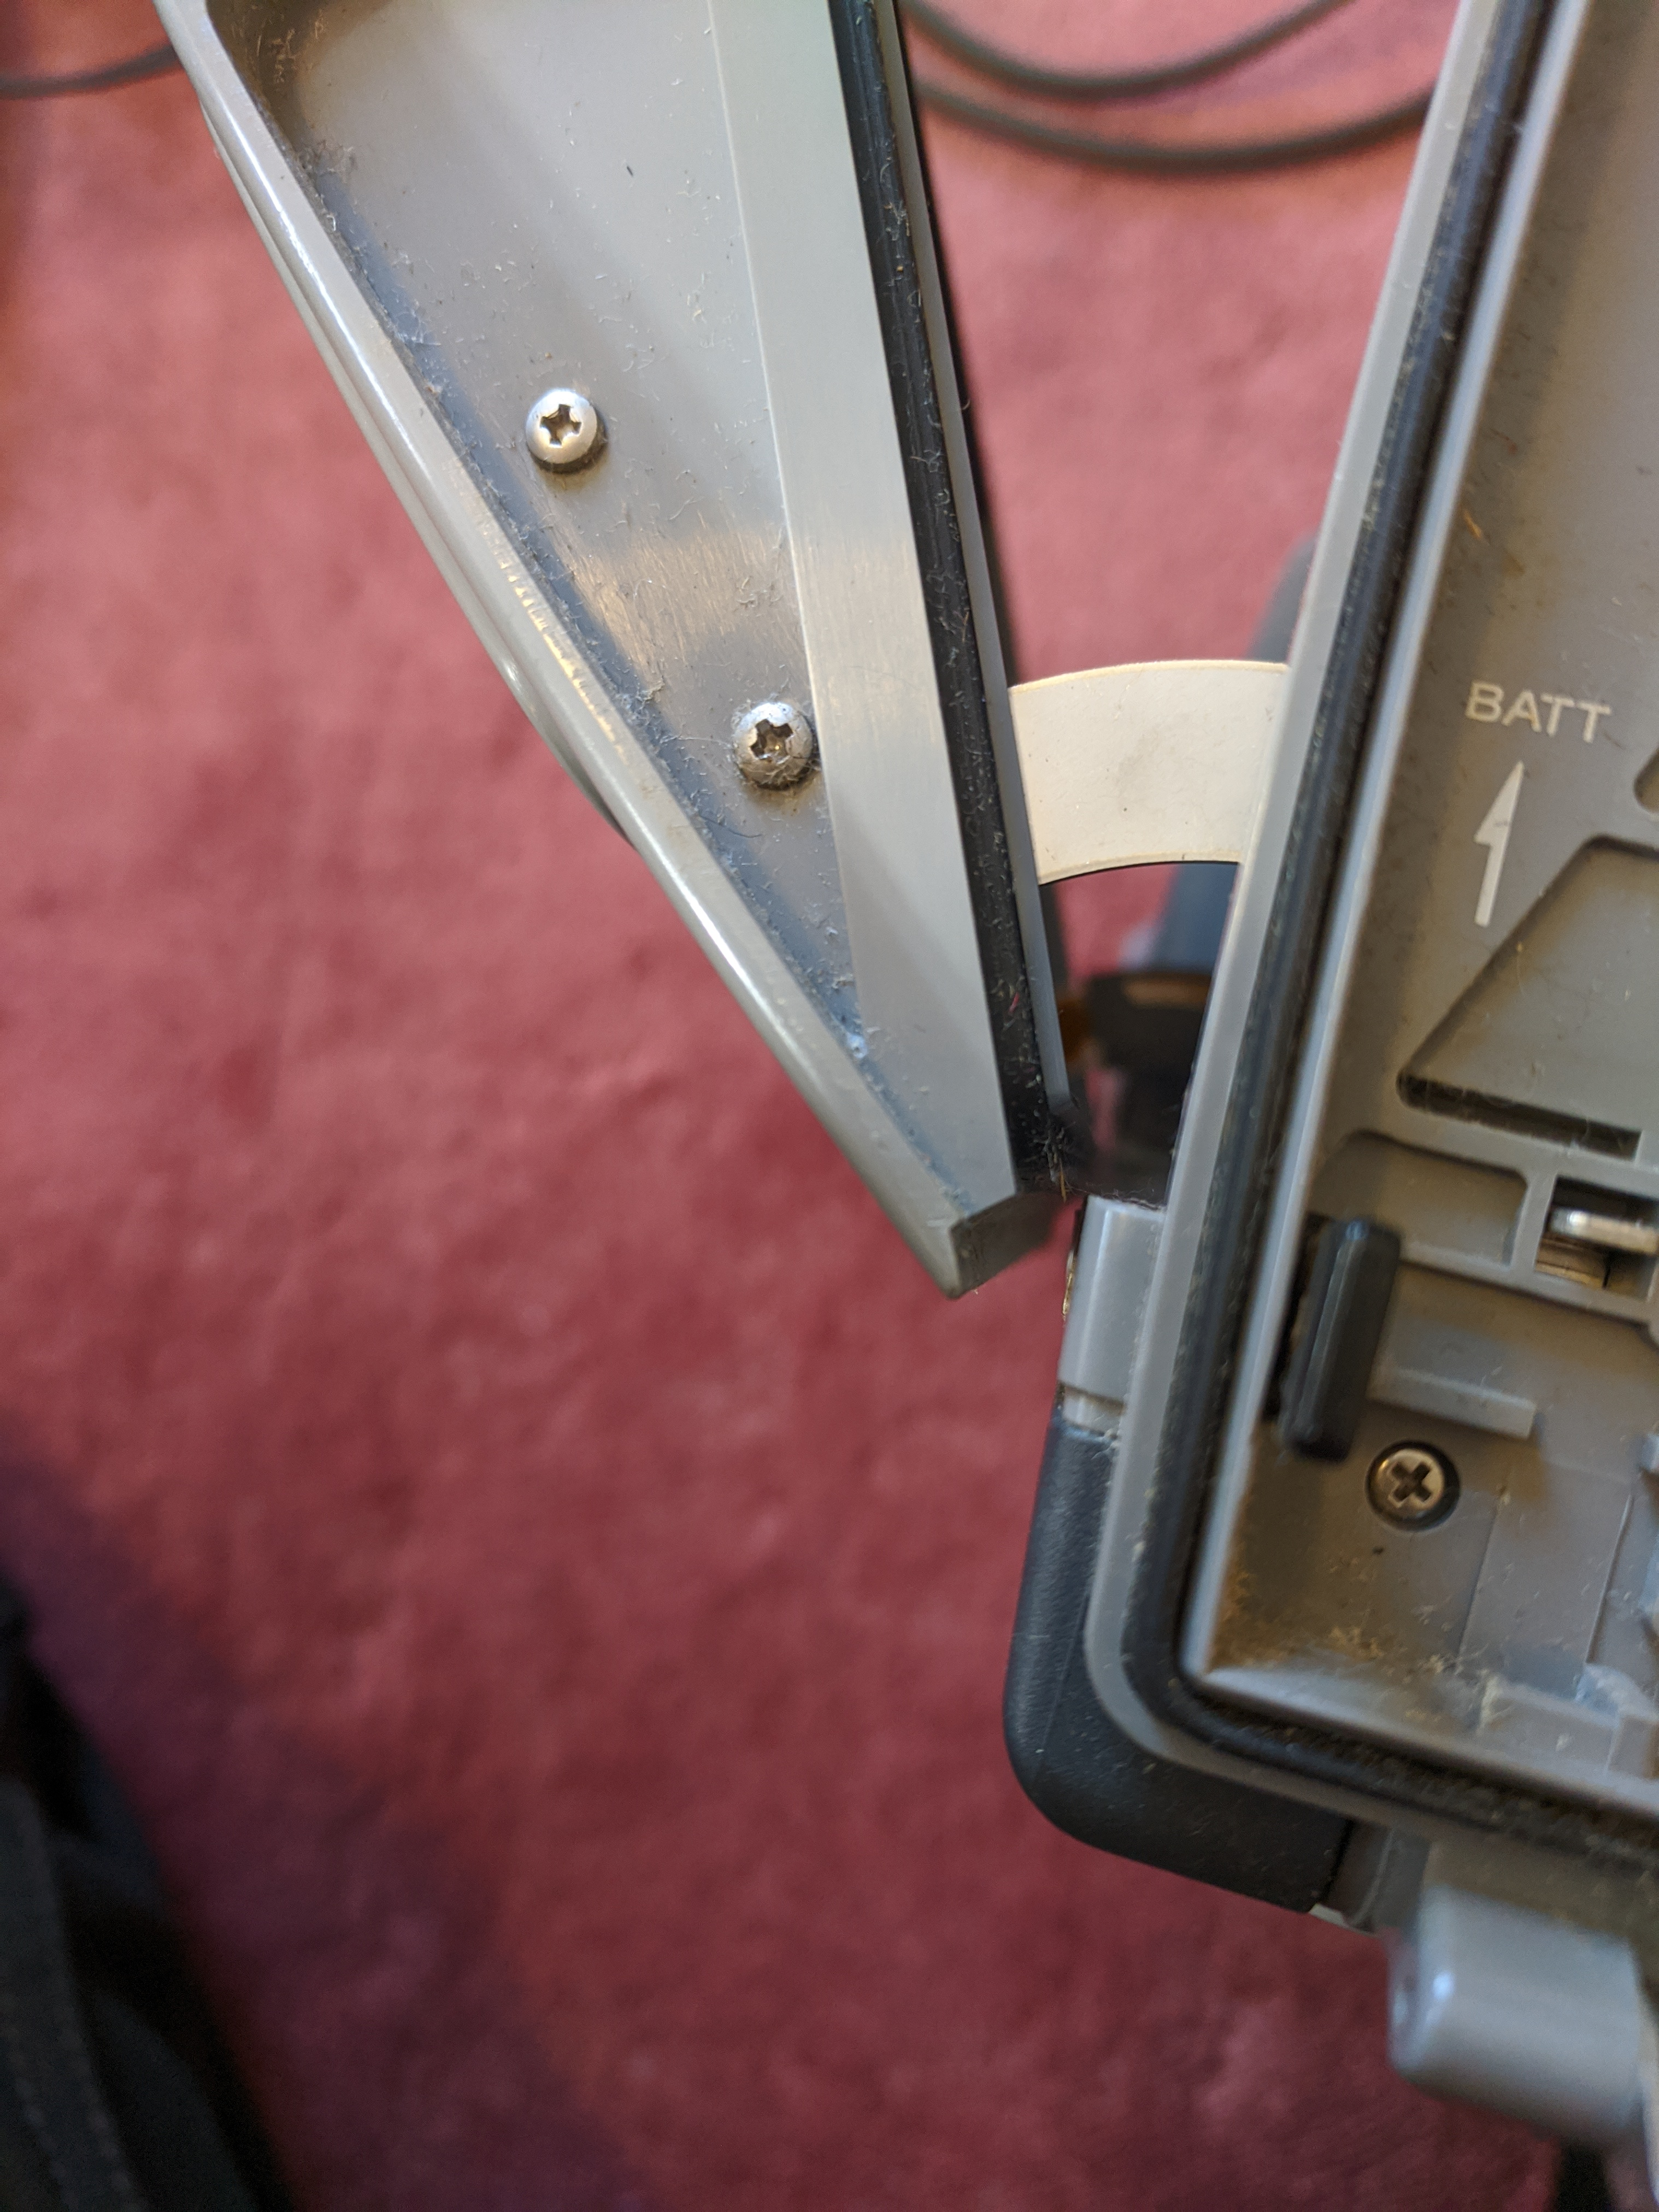cross_recessed_screw: (723, 693, 821, 798), (1359, 1426, 1457, 1531), (511, 366, 603, 475)
